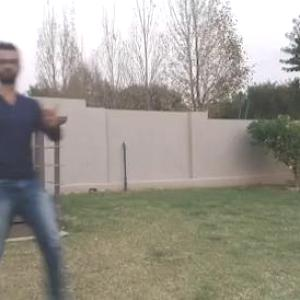takeoff-hand: (38, 93, 62, 127)
